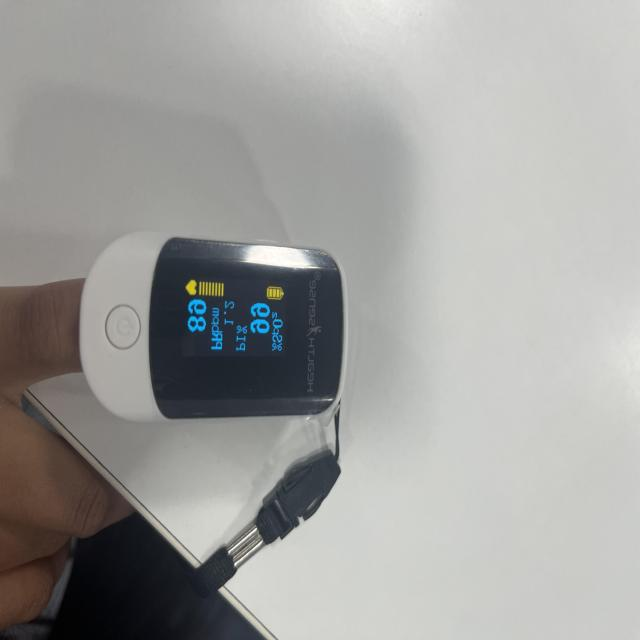spo2: (39, 233, 346, 599)
